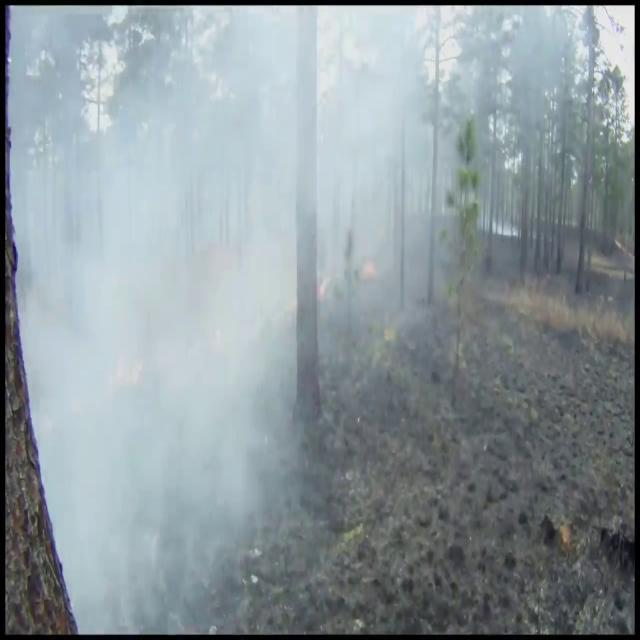Smoke: (10, 6, 462, 634)
